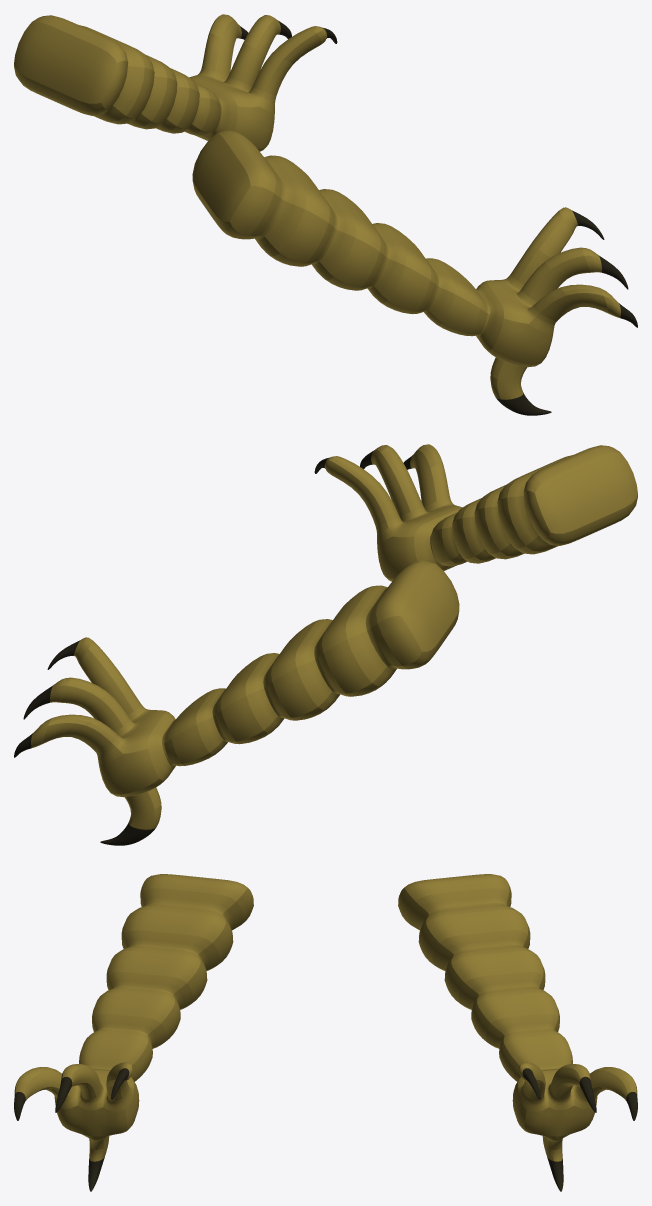
File: sahinkolarms.fbx
The picture shows the model from 3 angles, top to bottom: view 1: azimuth 30°, elevation 25°; view 2: azimuth 150°, elevation 25°; view 3: azimuth 270°, elevation 25°; orthographic projection. The views are drawn at different scales.
Parts seen in each view (by area): view 1: Cube.011; view 2: Cube.011; view 3: Cube.011.
Boxes of the visible parts, box(x1,y1,x2,y2) form: Cube.011: box(14, 14, 637, 415); Cube.011: box(14, 444, 637, 845); Cube.011: box(14, 874, 637, 1191).
Size of the model in its own units: 98.65 by 74 by 190.
